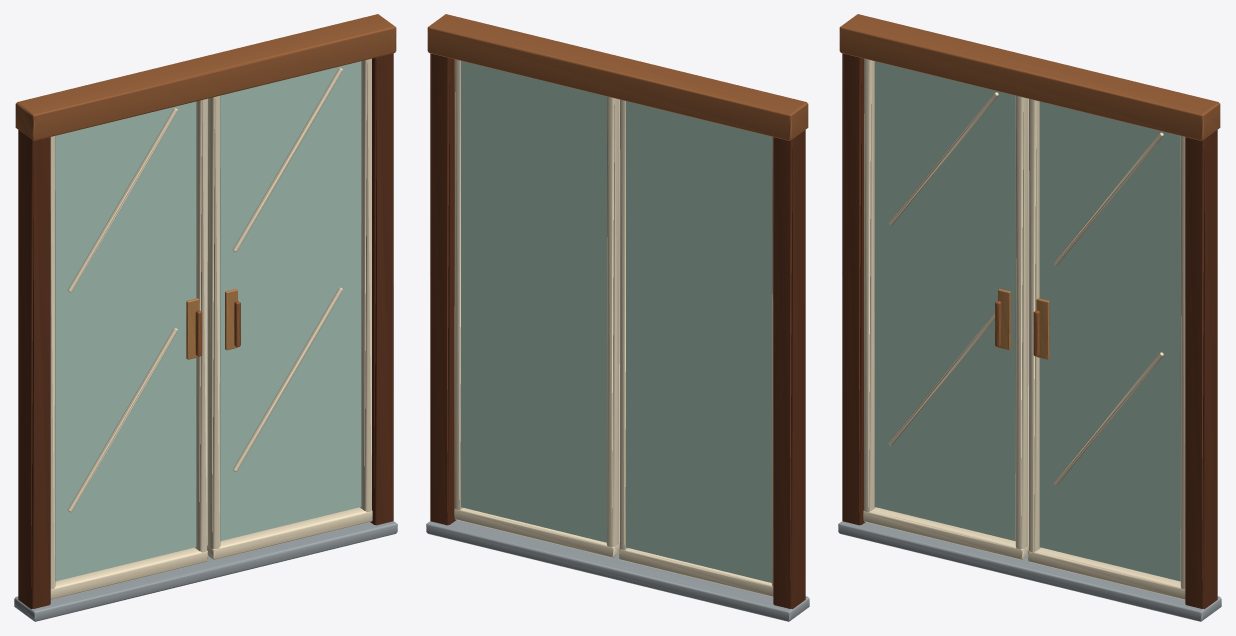
File: glass_double_door.fbx
3 views of the same model, side by side, from view 1: azimuth 30°, elevation 25°; view 2: azimuth 150°, elevation 25°; view 3: azimuth 330°, elevation 25° (orthographic).
Visible parts, largest first — view 1: glass_double_door; view 2: glass_double_door; view 3: glass_double_door.
Boxes of the visible parts, left/top/right/bottom form: glass_double_door: left=14, top=14, right=397, bottom=621; glass_double_door: left=426, top=14, right=809, bottom=621; glass_double_door: left=838, top=14, right=1221, bottom=621.
Size of the model in its own units: 170 by 226 by 19.7.
